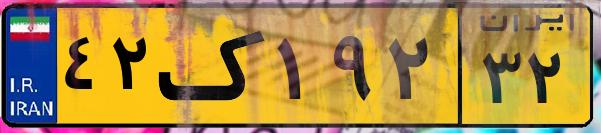1: (270, 28, 330, 110)
2: (385, 28, 445, 110), (525, 38, 570, 115), (110, 28, 158, 98)
3: (475, 38, 525, 113)
4: (57, 26, 110, 100)
9: (330, 28, 385, 110)
ک: (158, 12, 270, 120)
